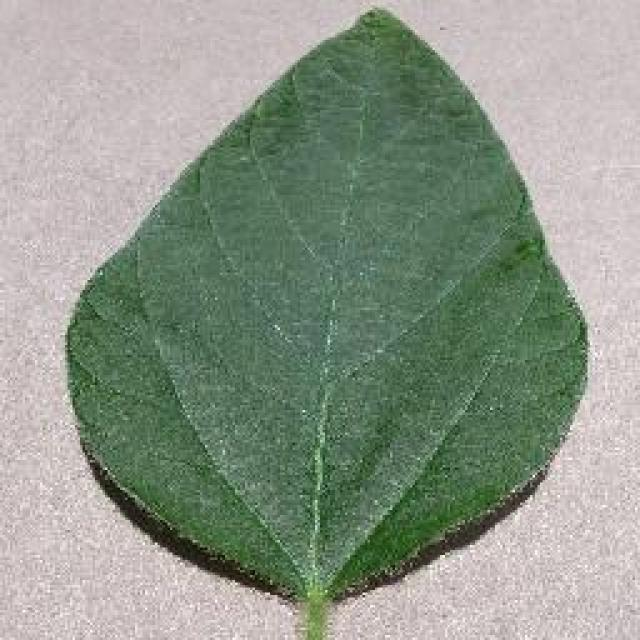Soy_healthy: (82, 59, 570, 576)
